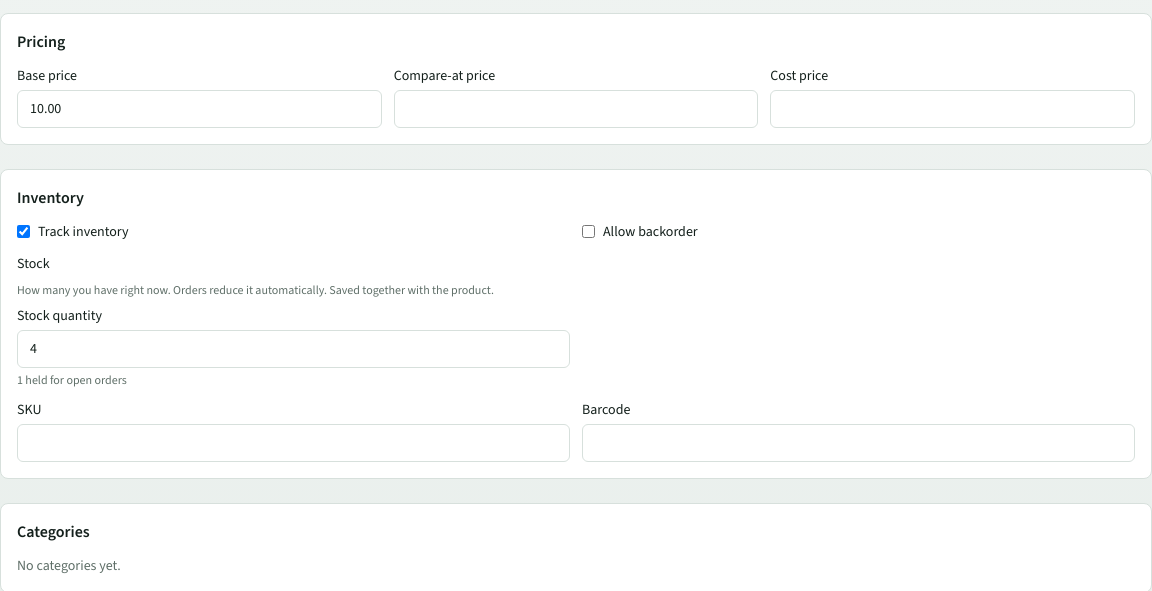
it: ProductForm stock fields › hides stock when inventory is not tracked
(page scrolled)
Click the checkbox labelled "Track inventory". click: (24, 232)
box: [17,225,30,238]
(page scrolled)
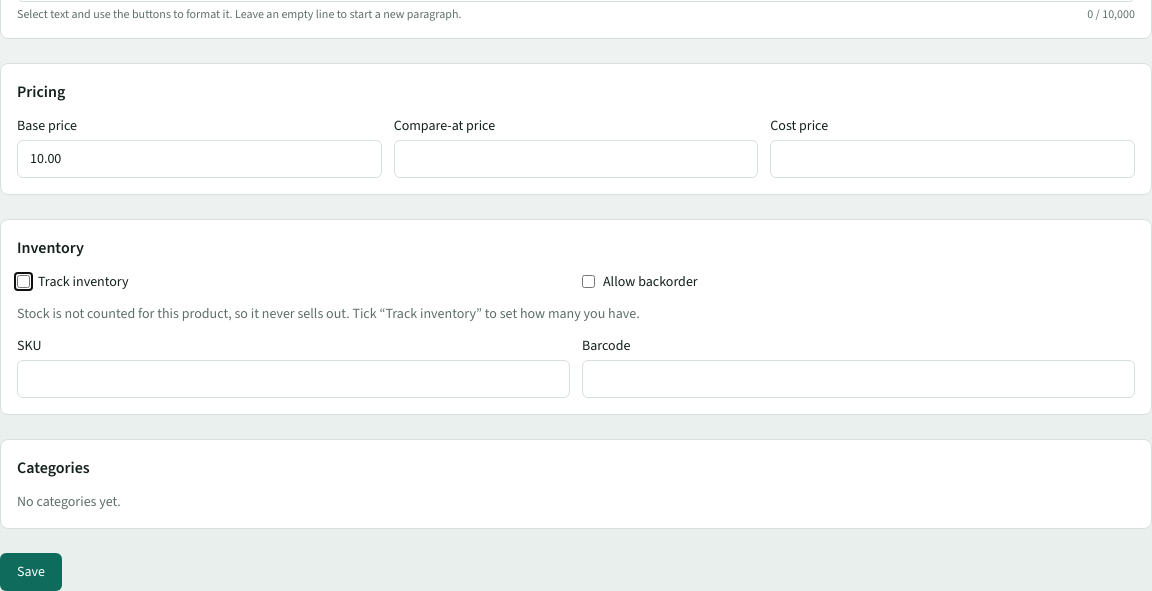
expect the text labelled "Stock quantity" is gone: met
expect the text "Stock is not counted" is shown: met, box [17,304,640,322]
